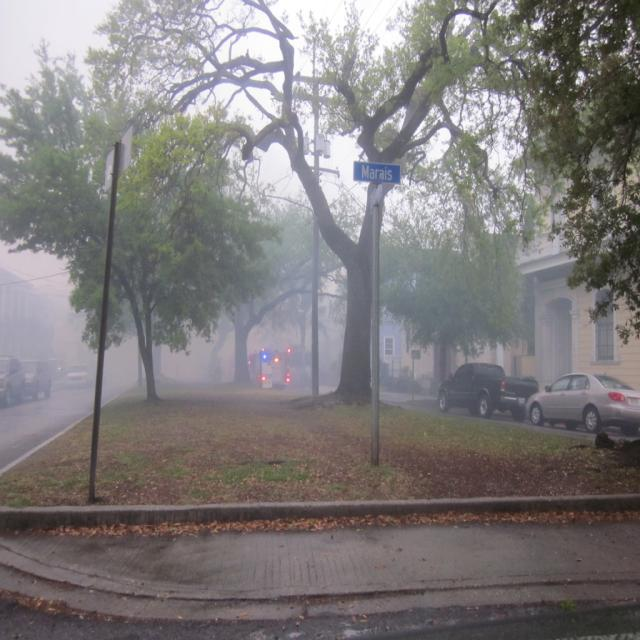car: (65, 359, 91, 389)
